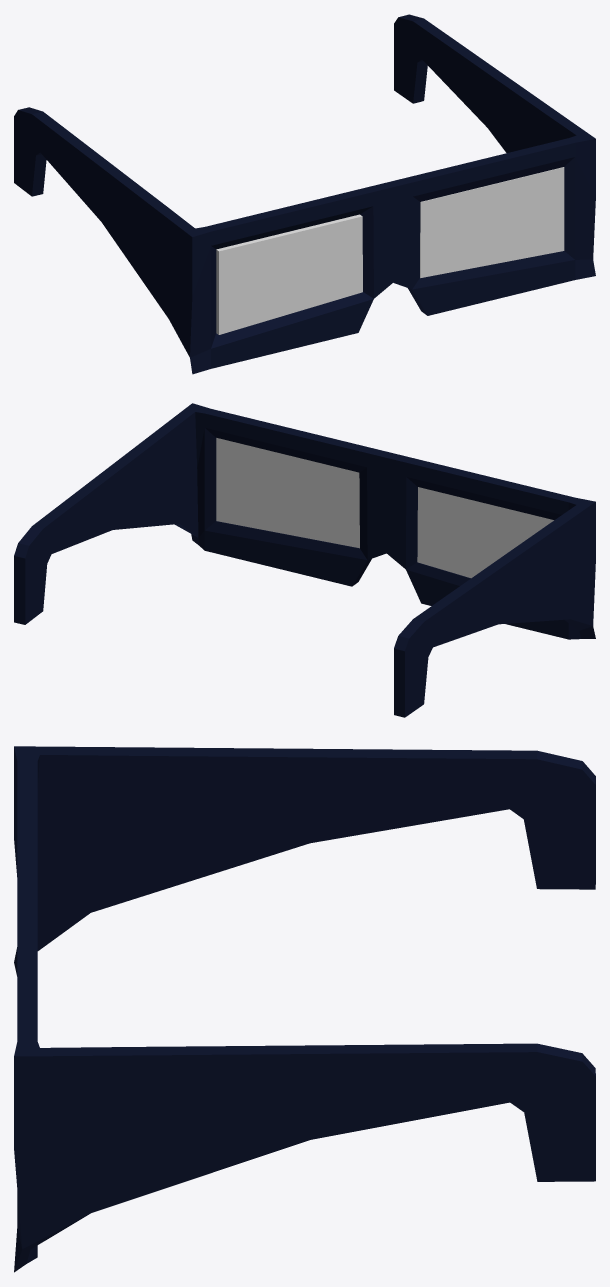
The model's file is 3Dglasses DO NOT USE.fbx.
3 views of the same model, one above another, from view 1: azimuth 30°, elevation 25°; view 2: azimuth 150°, elevation 25°; view 3: azimuth 270°, elevation 25° (orthographic). The views are drawn at different scales.
Parts seen in each view (by area): view 1: 3D glasögon; view 2: 3D glasögon; view 3: 3D glasögon.
Boxes of the visible parts, left/top/right/bottom form: 3D glasögon: left=14, top=14, right=595, bottom=374; 3D glasögon: left=14, top=403, right=595, bottom=717; 3D glasögon: left=14, top=746, right=595, bottom=1272.
Size of the model in its own units: 181 by 58.98 by 144.
